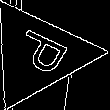P_SE: (3, 26, 73, 82)
